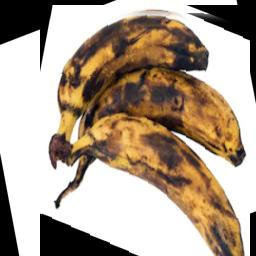Banana Rotten: (40, 5, 250, 256)
